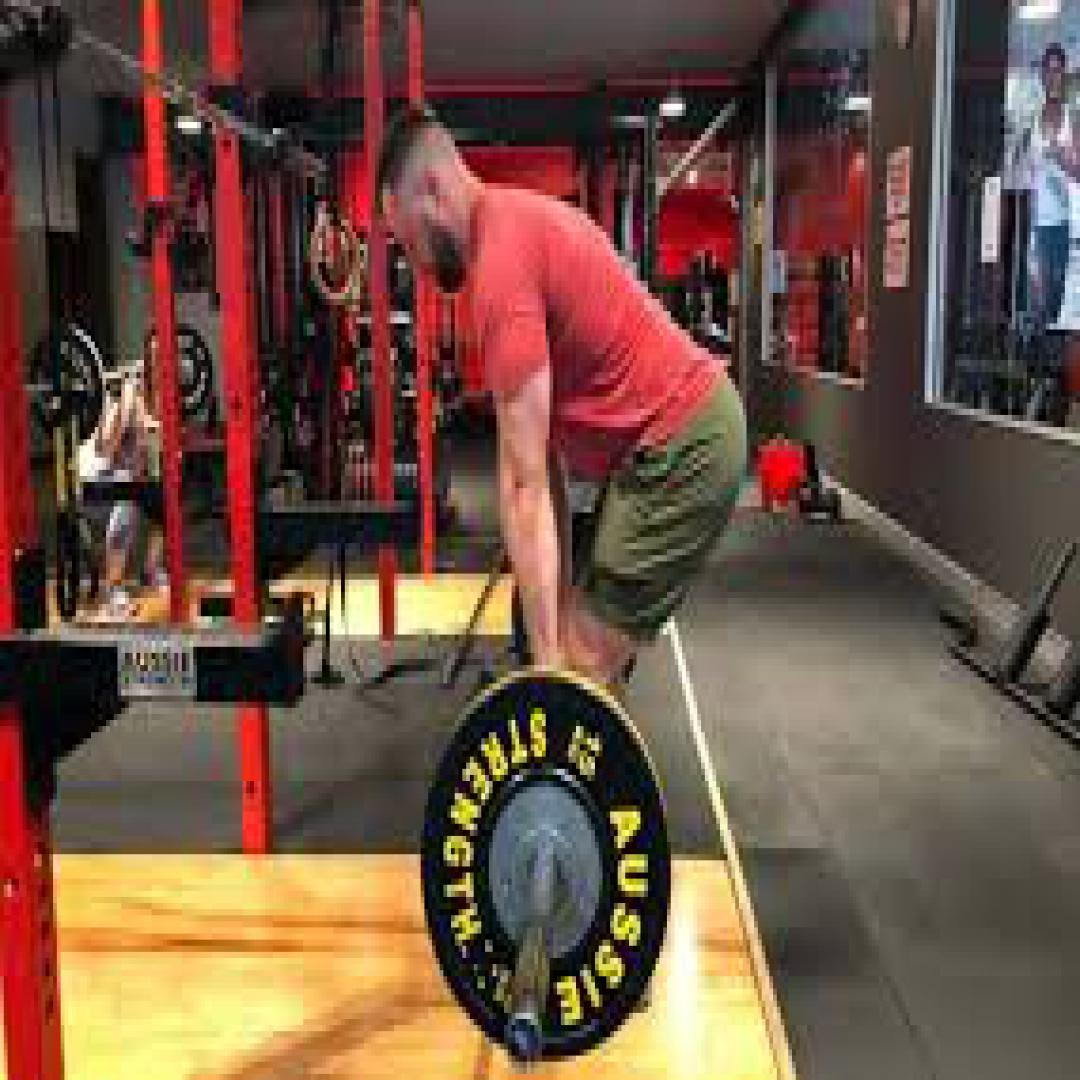Bar: (500, 1007, 546, 1068)
Barbell: (420, 671, 670, 1062)
